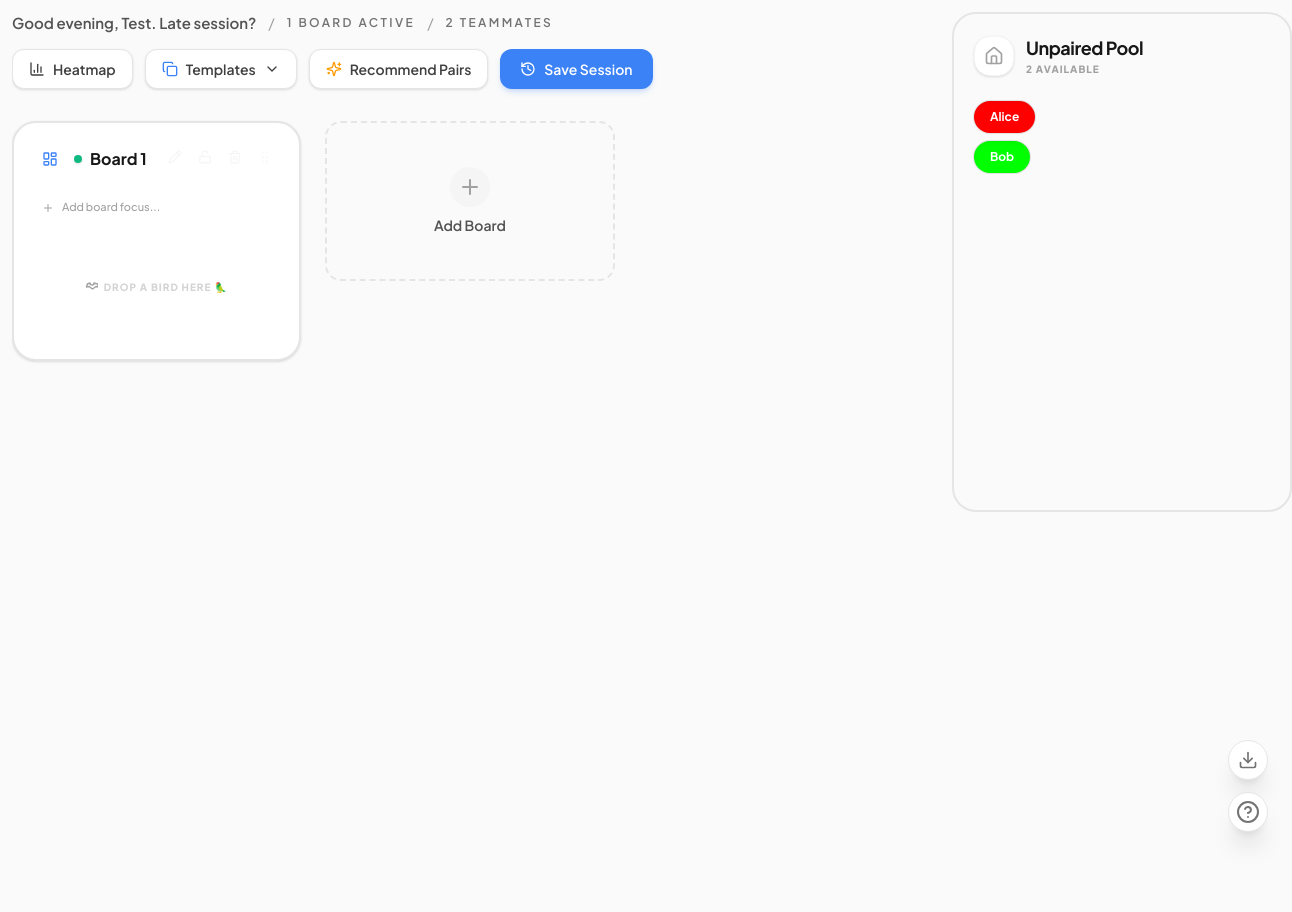
PairingWorkspace Component › toggles the pairing heatmap panel
Click the button "Heatmap" at (72,69), box [12,49,133,89]
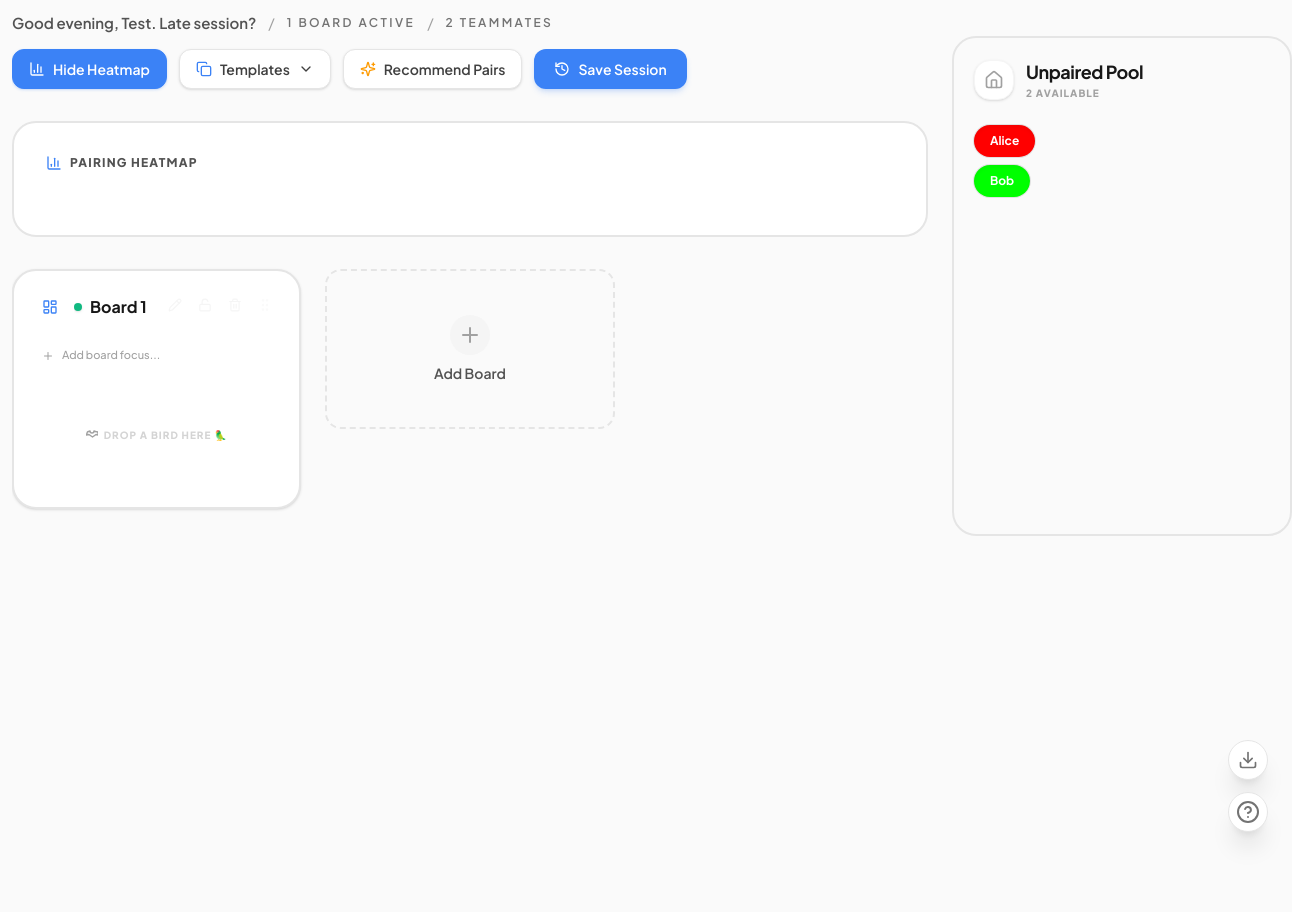
Result: the button "Hide Heatmap" is shown at [12,49,167,89]
Result: the heading "Pairing Heatmap" is shown at [70,155,198,171]
